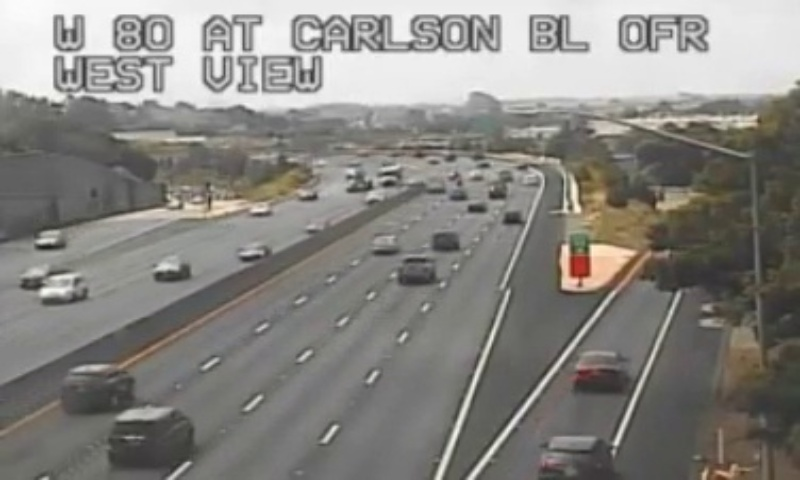car: (108, 407, 191, 463), (61, 364, 134, 411), (538, 436, 614, 480), (572, 351, 627, 389), (400, 256, 434, 279), (369, 234, 398, 254), (431, 230, 457, 250)
